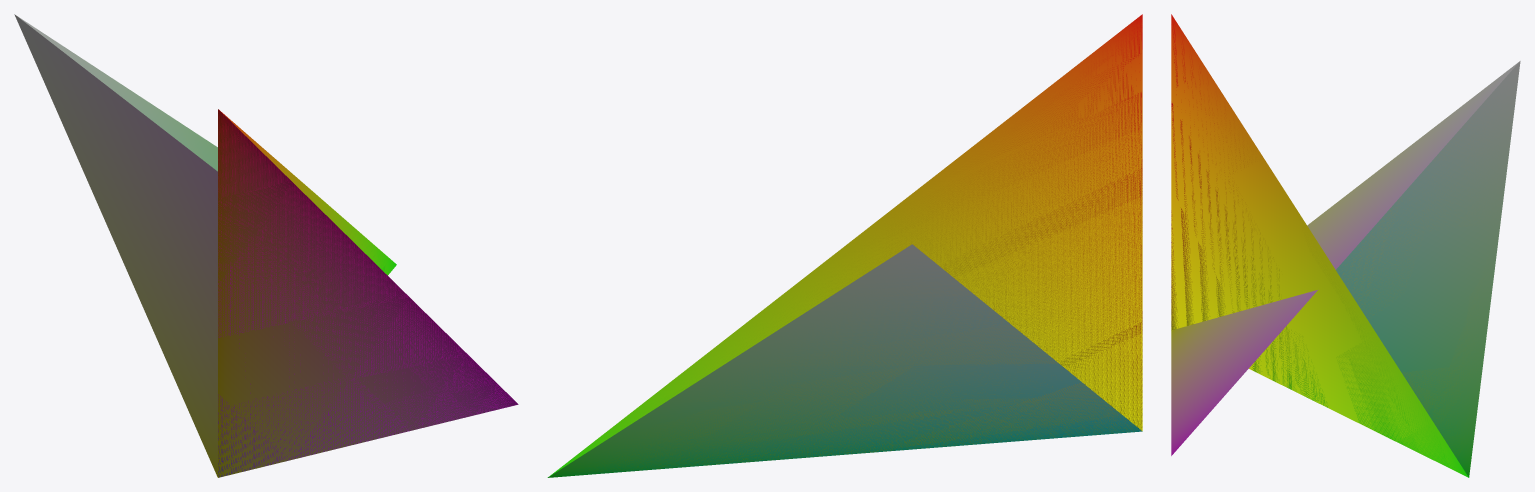
Rendered from fuzz_0629.fbx.
3 renders of one model, left to right at view 1: azimuth 30°, elevation 25°; view 2: azimuth 150°, elevation 25°; view 3: azimuth 270°, elevation 25°, orthographic. The views are drawn at different scales.
Visible parts, largest first — view 1: Cube; view 2: Cube; view 3: Cube.
Boxes of the visible parts, left/top/right/bottom form: Cube: left=14, top=14, right=518, bottom=477; Cube: left=547, top=14, right=1142, bottom=477; Cube: left=1171, top=14, right=1520, bottom=477.
Size of the model in its own units: 22400 by 22400 by 22400.
